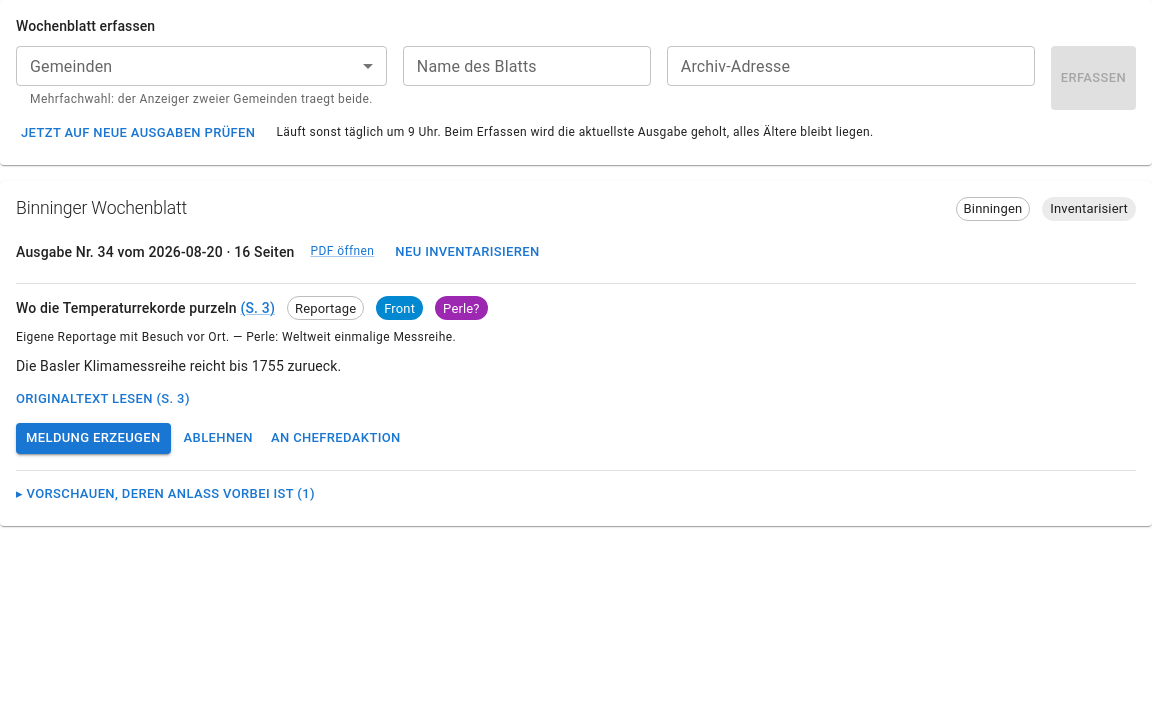
Presseschau › haengt eine Vorschau, deren Anlass vorbei ist, eingeklappt unten an — nichts geht verloren
The width and height of the screenshot is (1152, 720).
Expected: the text "Cup-Highlight" is not shown
Click the button "▸ Vorschauen, deren Anlass vorbei ist (1)": (166, 494) [16,479,315,510]
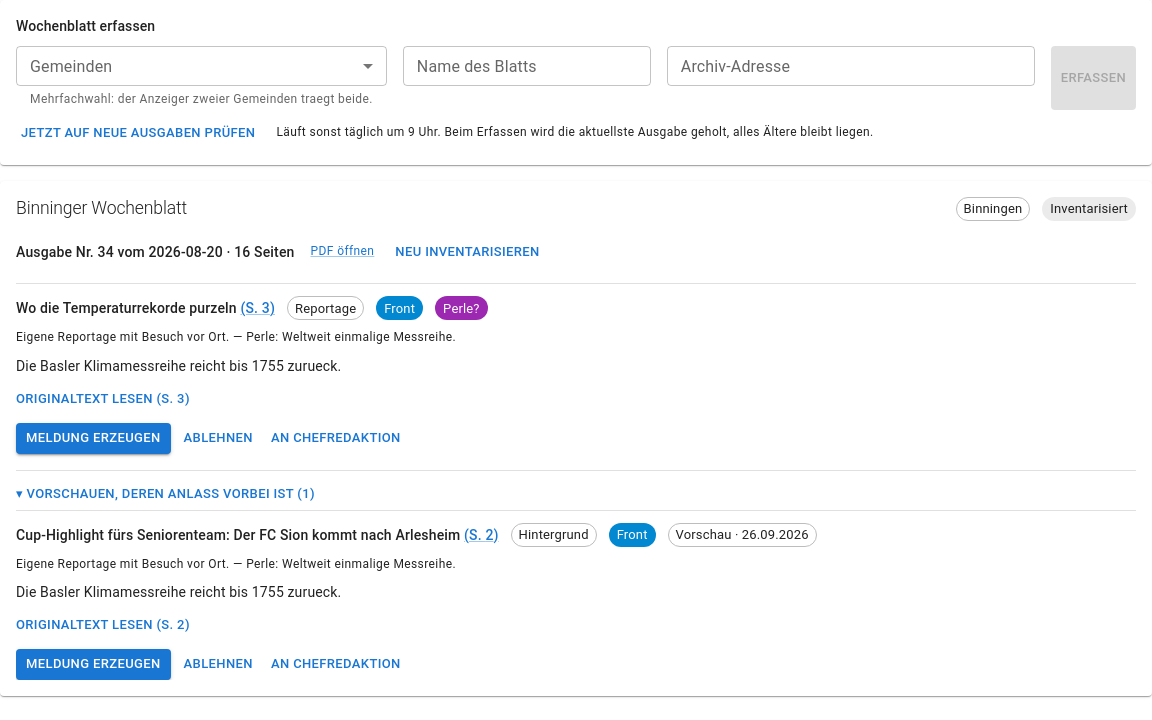
Now the text "Cup-Highlight" is shown, box [16,526,460,542]
Now the text "Vorschau · 26.09.2026" is shown, box [669,525,816,544]
